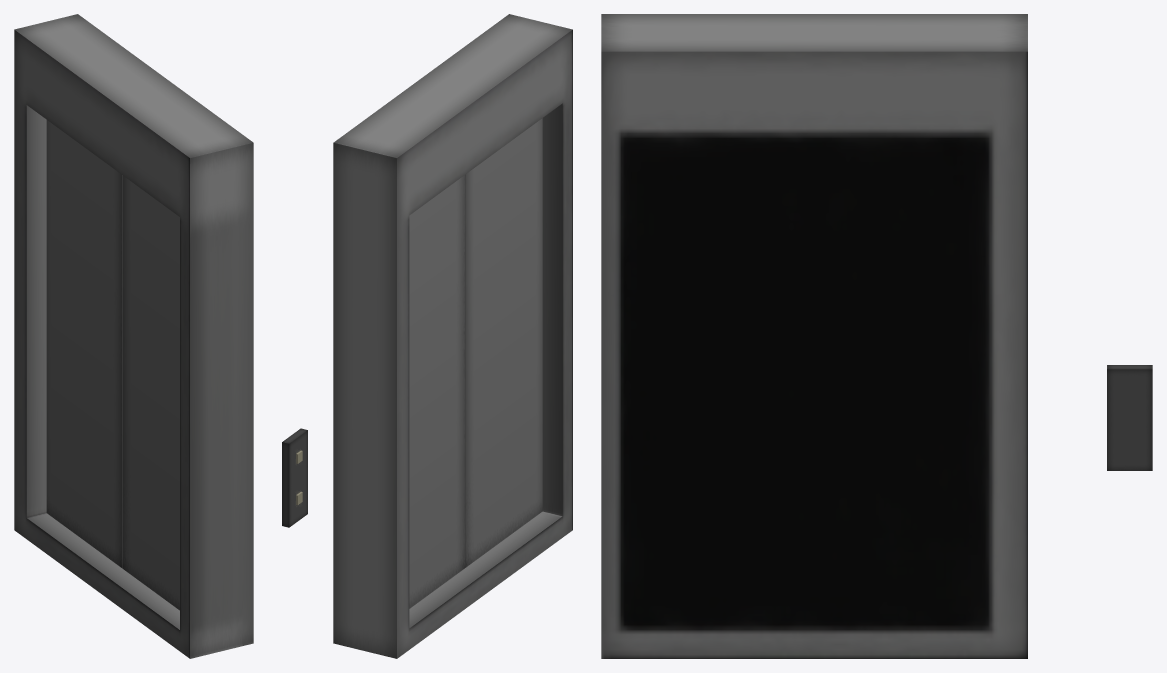
File: elevator.fbx
The picture shows the model from 3 angles, left to right: view 1: azimuth 30°, elevation 25°; view 2: azimuth 150°, elevation 25°; view 3: azimuth 270°, elevation 25°; orthographic projection. The views are drawn at different scales.
Visible parts, largest first — view 1: Cube.015, Cube.052, Cube.053; view 2: Cube.015, Cube.053, Cube.052, Cube.057; view 3: Cube.015, Cube.057.
Part boxes in pixels (left/top/right/bottom): Cube.015: left=14, top=14, right=253, bottom=658; Cube.052: left=46, top=120, right=122, bottom=568; Cube.053: left=122, top=175, right=179, bottom=610; Cube.015: left=333, top=14, right=572, bottom=658; Cube.053: left=465, top=118, right=542, bottom=567; Cube.052: left=409, top=175, right=464, bottom=608; Cube.057: left=282, top=428, right=307, bottom=527; Cube.015: left=601, top=14, right=1027, bottom=658; Cube.057: left=1107, top=365, right=1152, bottom=470.
Size of the model in its own units: 12.46 by 93.76 by 77.09.
5 materials, 4 textured.
